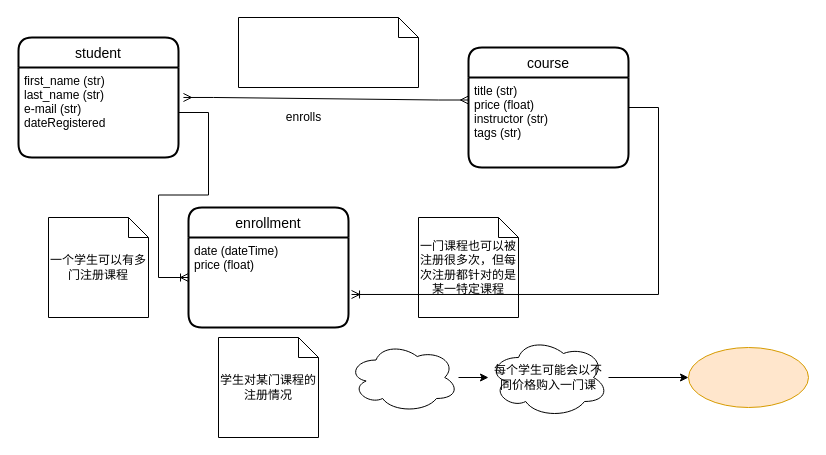
This 826x455 diagram has some shape labels left out. The shapes that lost their labels are listed below. From the top down, each one's centre as x and y in pixels, then its label:
At point 328,52: "一个学生可以注册多门课程，一门课程也可以招收多名学生，所以是多对多的关系".
At point 403,377: "业务：课程定价会随着时间变动".
At point 748,377: "价格应该放在注册中>学生在注册一门课时的价格".
